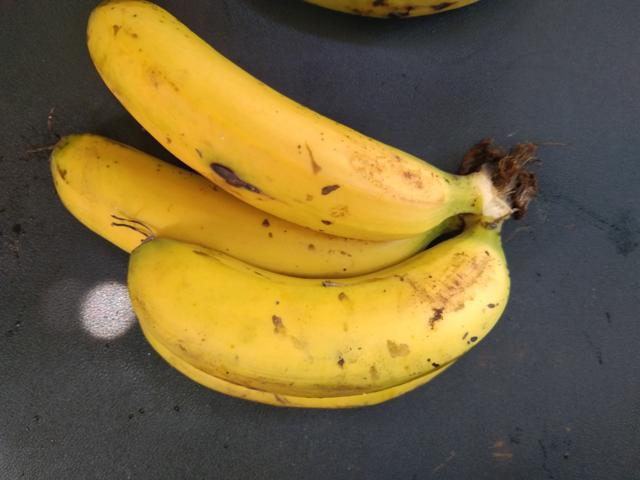ripe: (92, 0, 450, 231), (100, 225, 534, 406), (33, 127, 286, 279)
